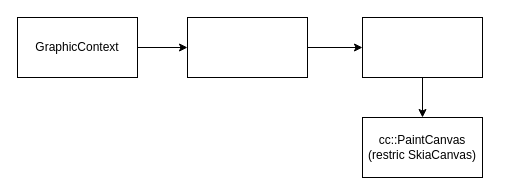
The diagram is 520 pixels wide and 195 high, and some of its shapes have lost their labels. Here are the shapes that lost their labels. From the top down, the centre of each, then its label:
pixel 247 47: PaintController (deal with DI)
pixel 422 47: RecordPaintCanvas 记录绘制指令
